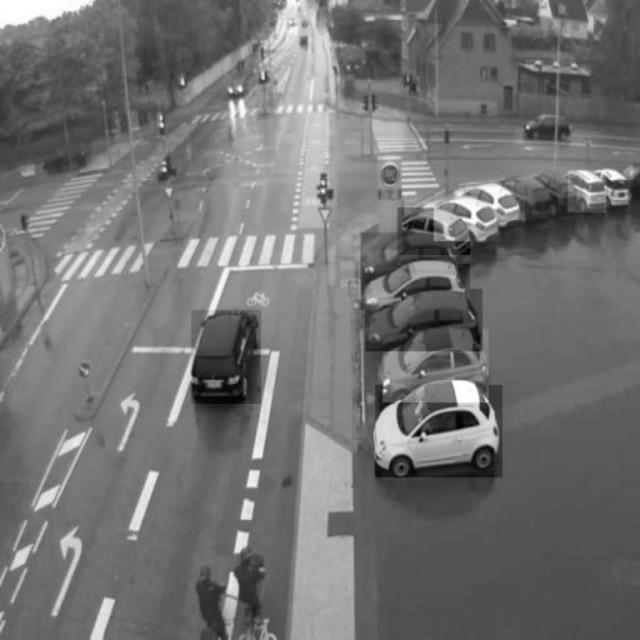vehicle: (375, 385, 503, 477), (383, 329, 489, 402), (365, 289, 483, 351), (191, 311, 261, 404), (361, 264, 471, 310), (398, 207, 470, 255), (361, 233, 454, 270), (434, 193, 501, 241), (466, 182, 524, 220), (567, 171, 605, 213), (528, 114, 575, 140)
